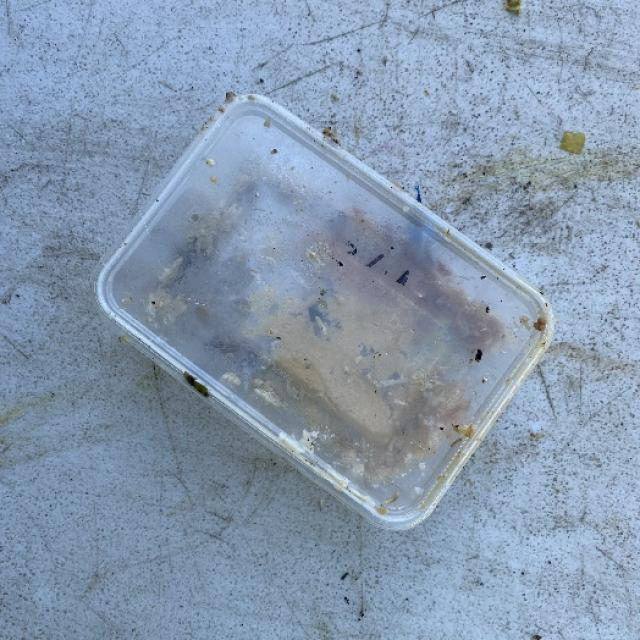inorganic: (88, 67, 576, 560)
